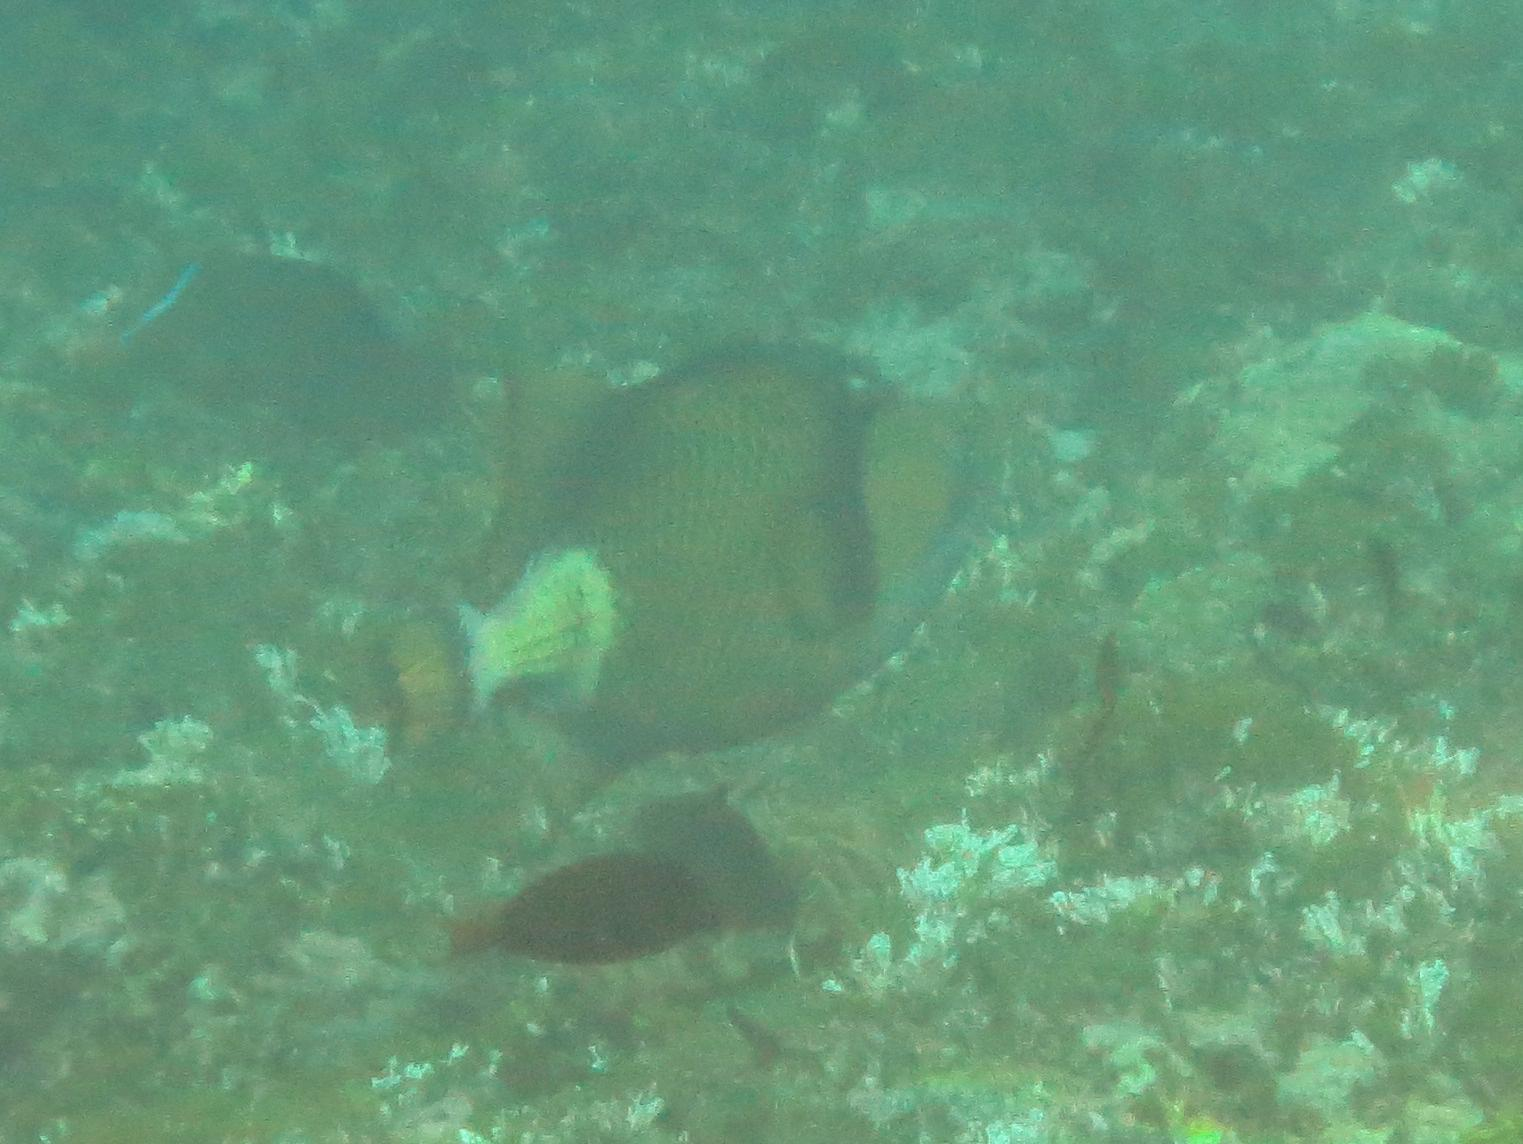Fish: (325, 327, 1025, 786)
